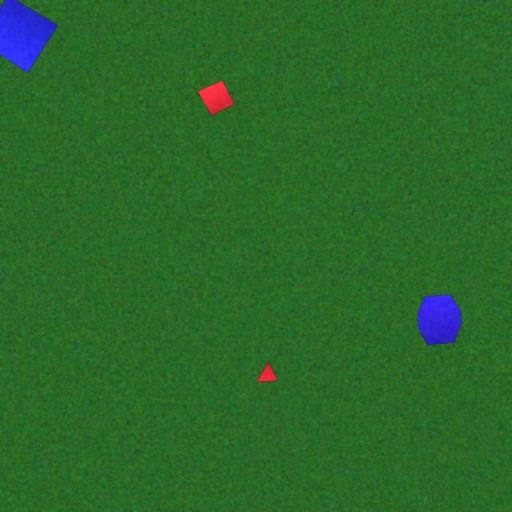BLUE_SQUARE: (0, 0, 59, 74)
RED_SQUARE: (197, 80, 235, 116)
